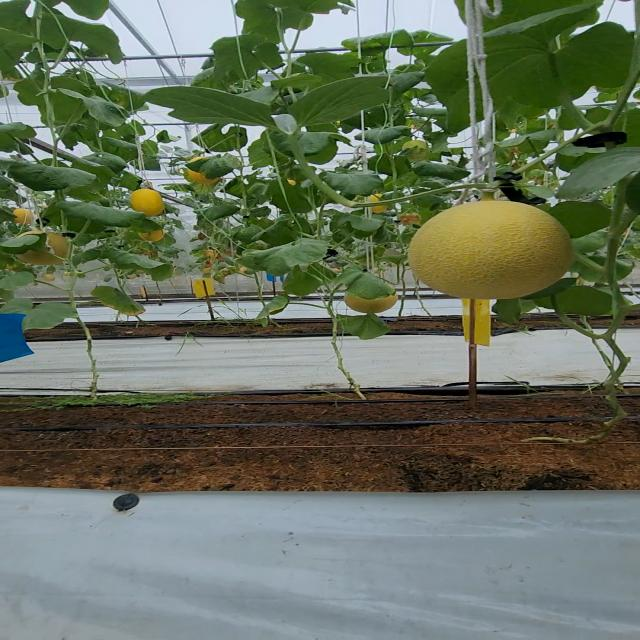Melon: (403, 198, 584, 307)
